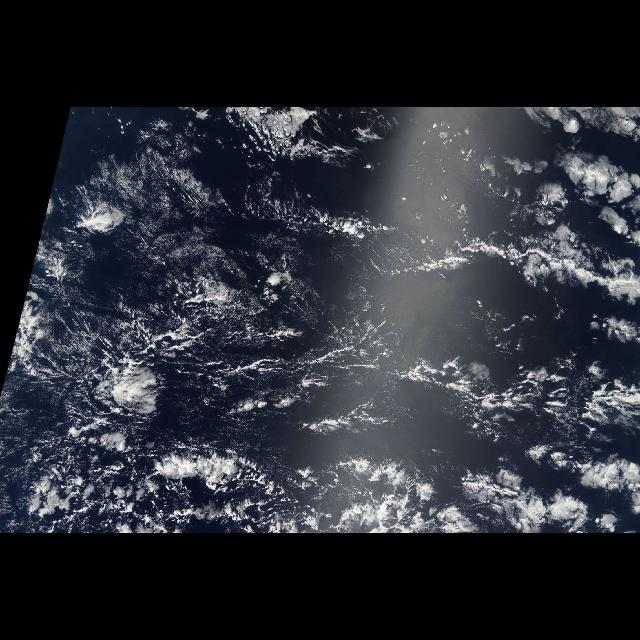Fish: (132, 160, 636, 456)
Flower: (474, 132, 640, 526)
Gravel: (61, 142, 468, 476)
Sugar: (110, 153, 232, 283)
